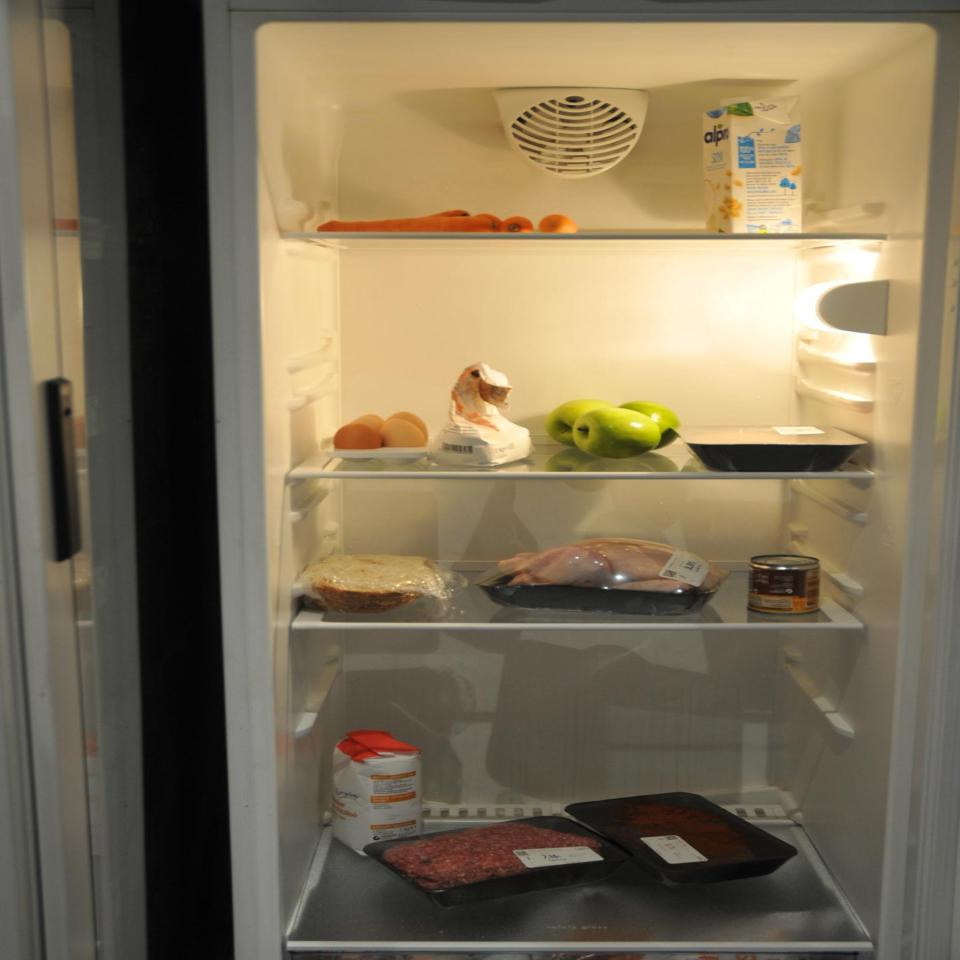Carne pollo: (486, 532, 711, 610)
Huevos: (335, 407, 425, 457)
Leche: (702, 95, 816, 239)
Manzana: (548, 398, 682, 460)
Zanahoria: (315, 205, 583, 241)
